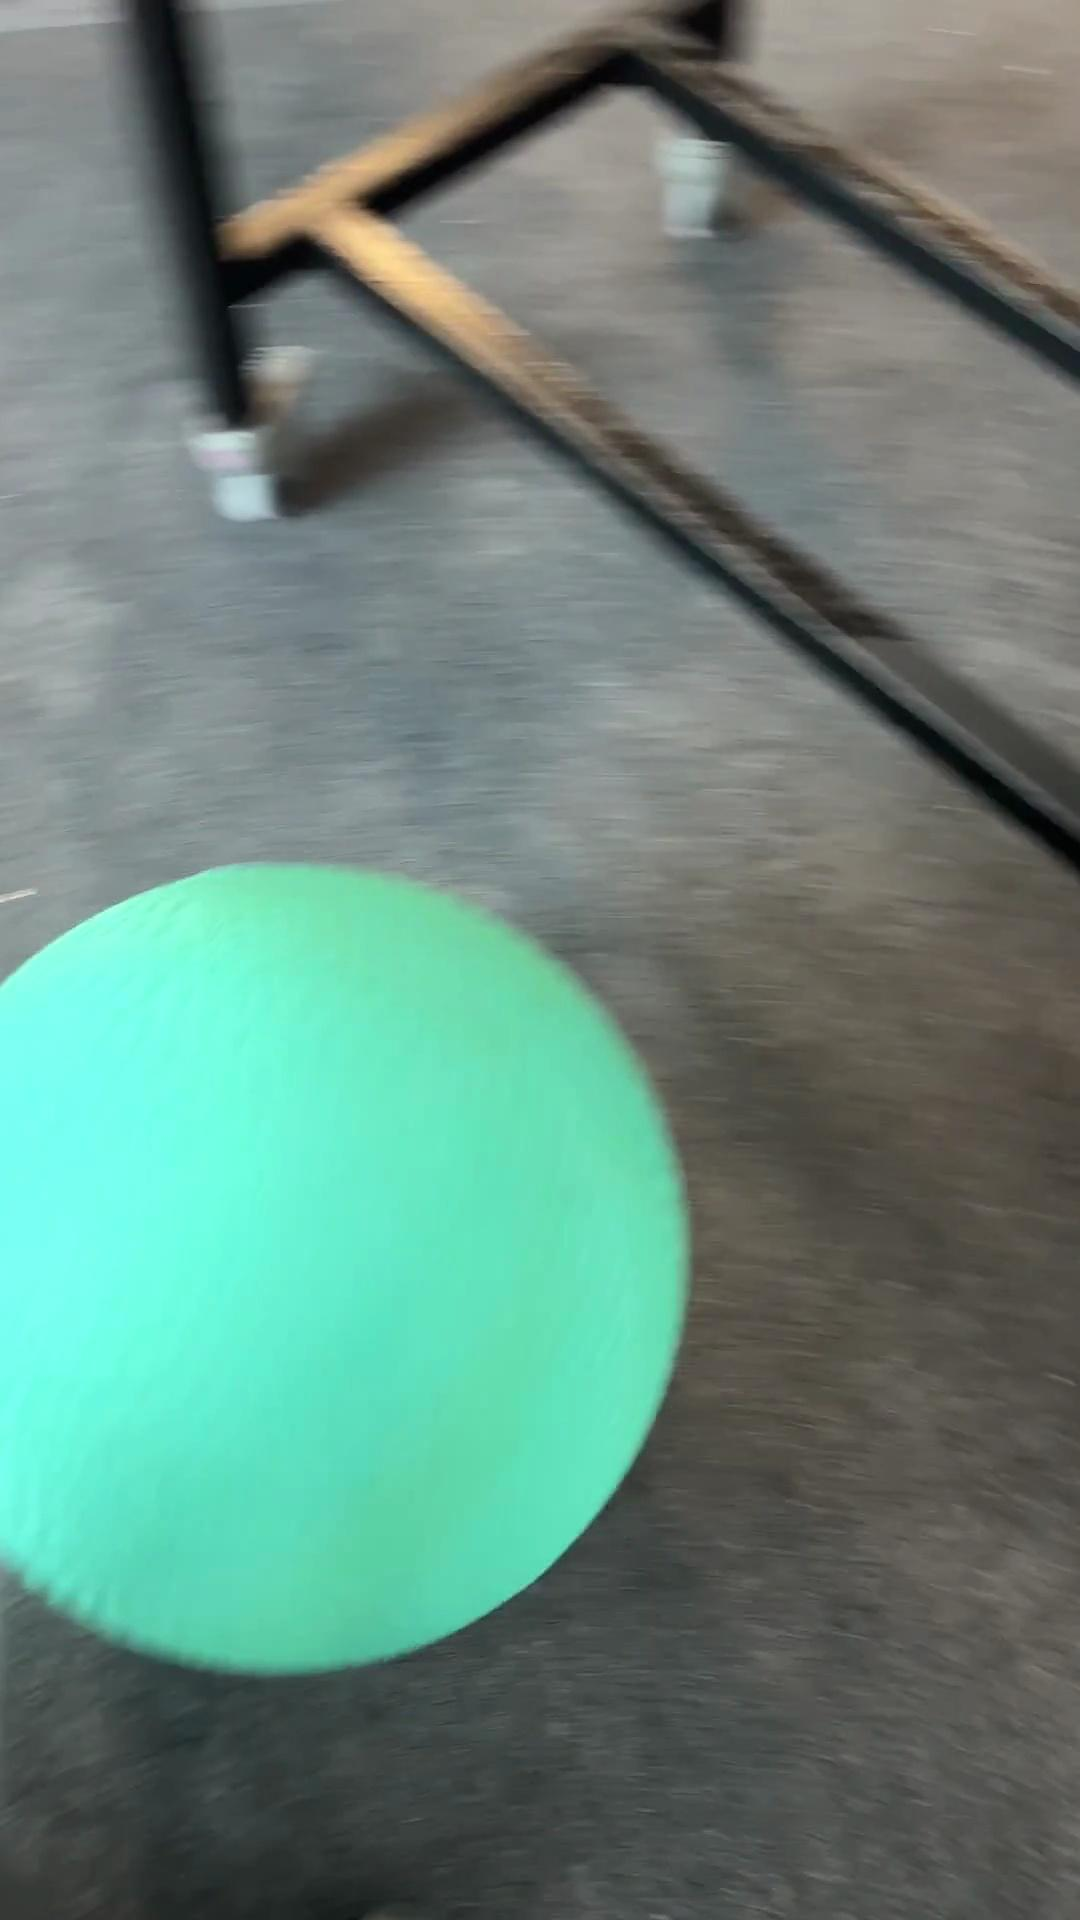ALGAE: (1, 857, 692, 1677)
